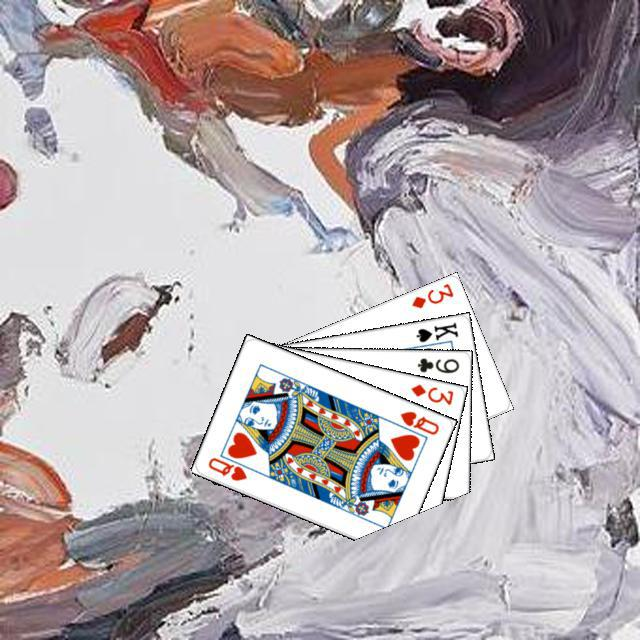3d: (407, 278, 455, 310), (406, 379, 455, 407)
9c: (413, 353, 460, 374)
Ks: (411, 317, 460, 344)
Qh: (203, 450, 257, 482), (395, 406, 441, 437)
